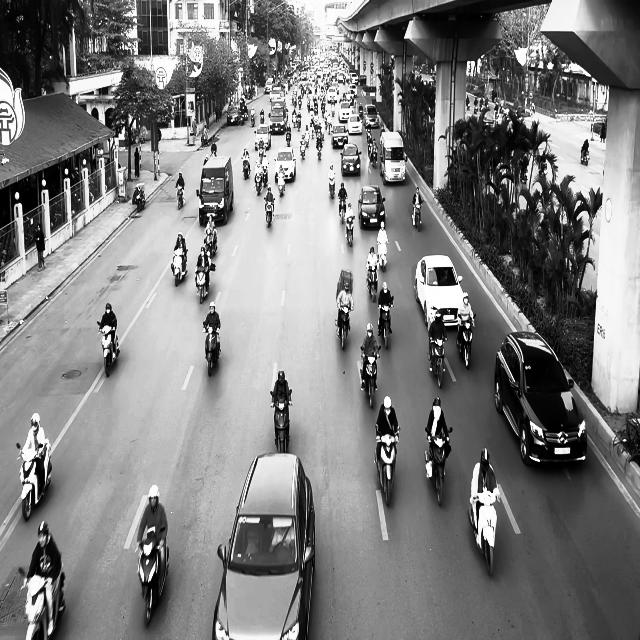car: (212, 452, 316, 640), (494, 330, 587, 466), (413, 254, 464, 331), (358, 185, 386, 229), (274, 147, 296, 182), (339, 143, 362, 176), (254, 123, 271, 150)
motorbike: (19, 562, 66, 640), (136, 528, 169, 626), (16, 438, 52, 521), (468, 489, 498, 576), (425, 426, 452, 506), (374, 424, 400, 506), (358, 346, 381, 408), (270, 388, 292, 452), (97, 320, 120, 377), (202, 322, 221, 377), (456, 314, 475, 369), (428, 334, 446, 388), (195, 262, 215, 303), (378, 298, 393, 349), (335, 306, 351, 350), (171, 246, 187, 286), (366, 263, 378, 302), (204, 227, 217, 255), (133, 183, 146, 210), (412, 200, 423, 231), (377, 241, 388, 270), (264, 196, 274, 227), (344, 216, 354, 246), (276, 169, 286, 196), (254, 168, 263, 195), (338, 196, 347, 223), (176, 185, 185, 210), (242, 158, 251, 180), (580, 147, 590, 165), (328, 174, 335, 199)
